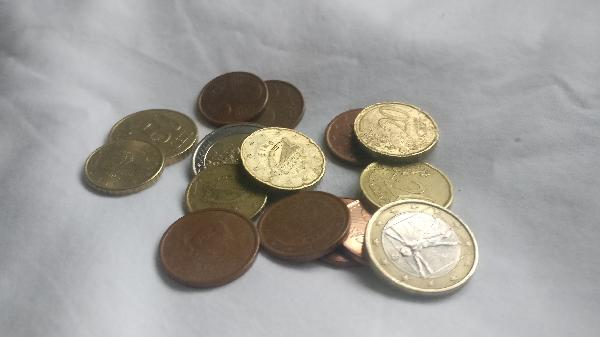Fifty Cent: (110, 109, 197, 161)
Five Cent: (161, 210, 262, 292), (256, 193, 354, 268), (197, 73, 275, 125), (245, 78, 311, 135), (325, 109, 377, 168)
One Euro: (365, 199, 481, 293)
Ten Cent: (182, 165, 268, 219), (86, 140, 169, 195)
Twenty Cent: (242, 125, 329, 189), (356, 155, 457, 209), (359, 96, 442, 153)
Two Euro: (190, 126, 273, 184)
